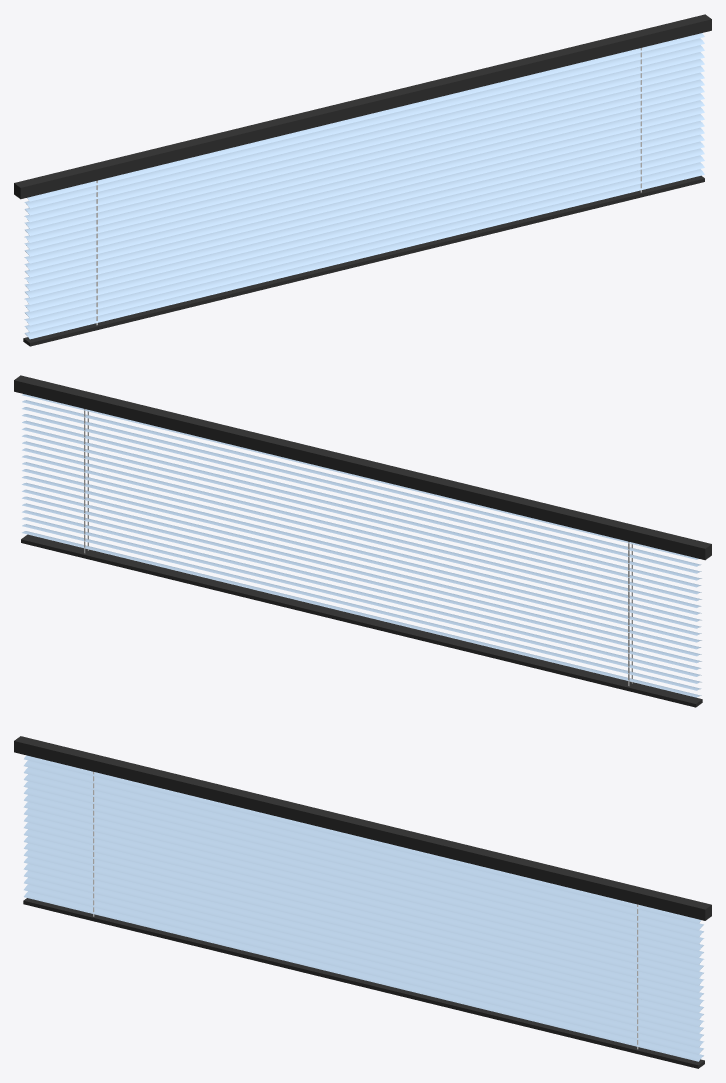
3 renders of one model, top to bottom at view 1: azimuth 30°, elevation 25°; view 2: azimuth 150°, elevation 25°; view 3: azimuth 330°, elevation 25°, orthographic.
Parts seen in each view (by area): view 1: Screen_BLN, Screen_BLACK_PLASTIC; view 2: Screen_BLN, Screen_BLACK_PLASTIC, Screen_WHITE_PAINT; view 3: Screen_BLN, Screen_BLACK_PLASTIC.
Boxes of the visible parts, bbox=[...] form: Screen_BLN: bbox=[24, 33, 704, 339]; Screen_BLACK_PLASTIC: bbox=[14, 14, 711, 346]; Screen_BLN: bbox=[22, 394, 701, 697]; Screen_BLACK_PLASTIC: bbox=[14, 375, 711, 707]; Screen_WHITE_PAINT: bbox=[84, 409, 632, 686]; Screen_BLN: bbox=[23, 755, 703, 1061]; Screen_BLACK_PLASTIC: bbox=[14, 736, 711, 1068].
Bounding box in the file's own units: 22.89 × 5.09 × 0.3834.
